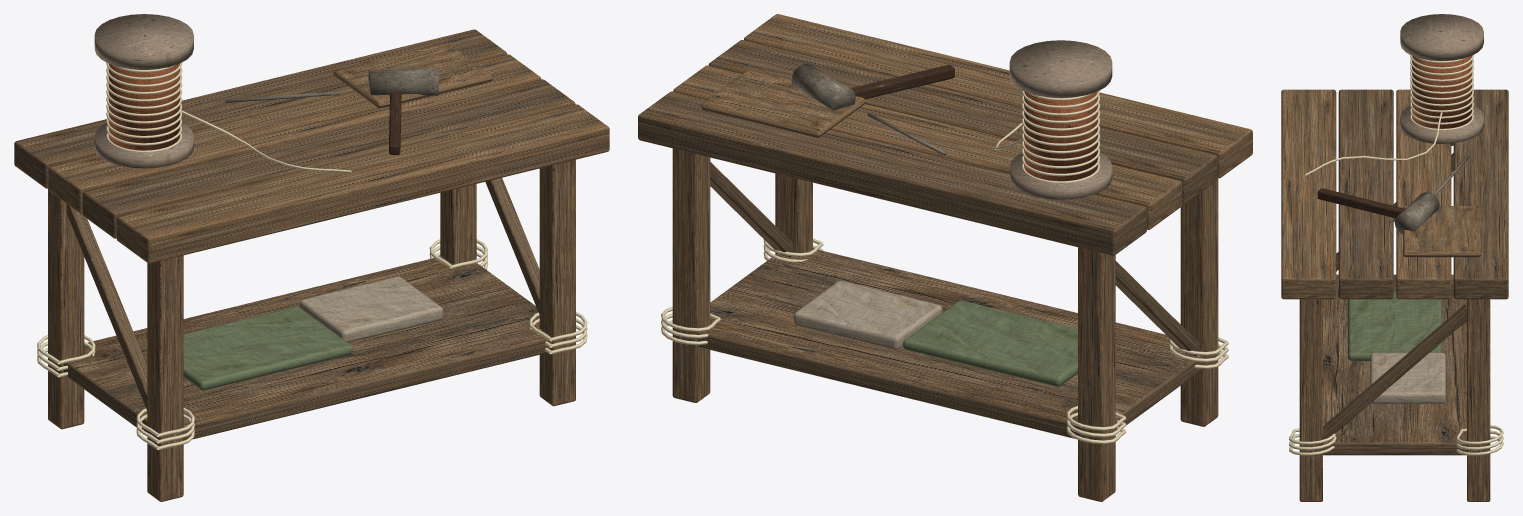
Rendered from salvage_workbench.glb.
3 renders of one model, left to right at view 1: azimuth 30°, elevation 25°; view 2: azimuth 150°, elevation 25°; view 3: azimuth 270°, elevation 25°, orthographic. The views are drawn at different scales.
Visible parts, largest first — view 1: salvage_workbench_mesh; view 2: salvage_workbench_mesh; view 3: salvage_workbench_mesh.
Boxes of the visible parts, left/top/right/bottom form: salvage_workbench_mesh: left=14, top=14, right=609, bottom=501; salvage_workbench_mesh: left=638, top=14, right=1252, bottom=501; salvage_workbench_mesh: left=1281, top=14, right=1508, bottom=501.
Bounding box in the file's own units: 1.72 × 1.38 × 0.87.
Materials: 9 (8 with a texture image).
